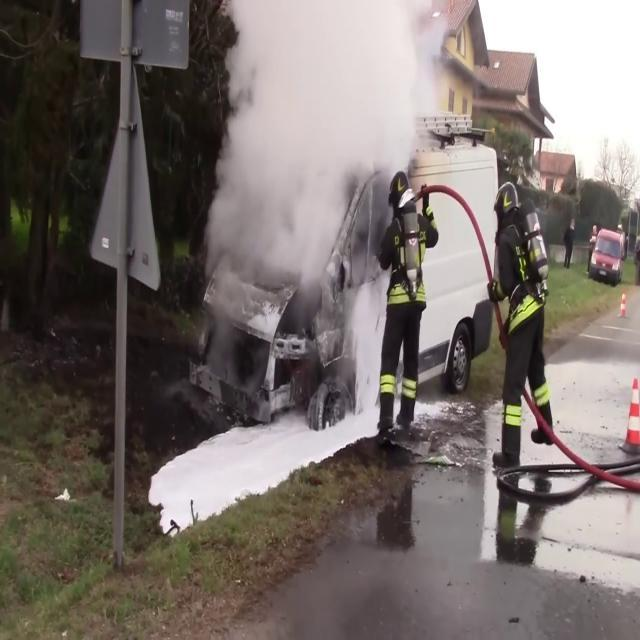Smoke: (198, 0, 442, 328)
